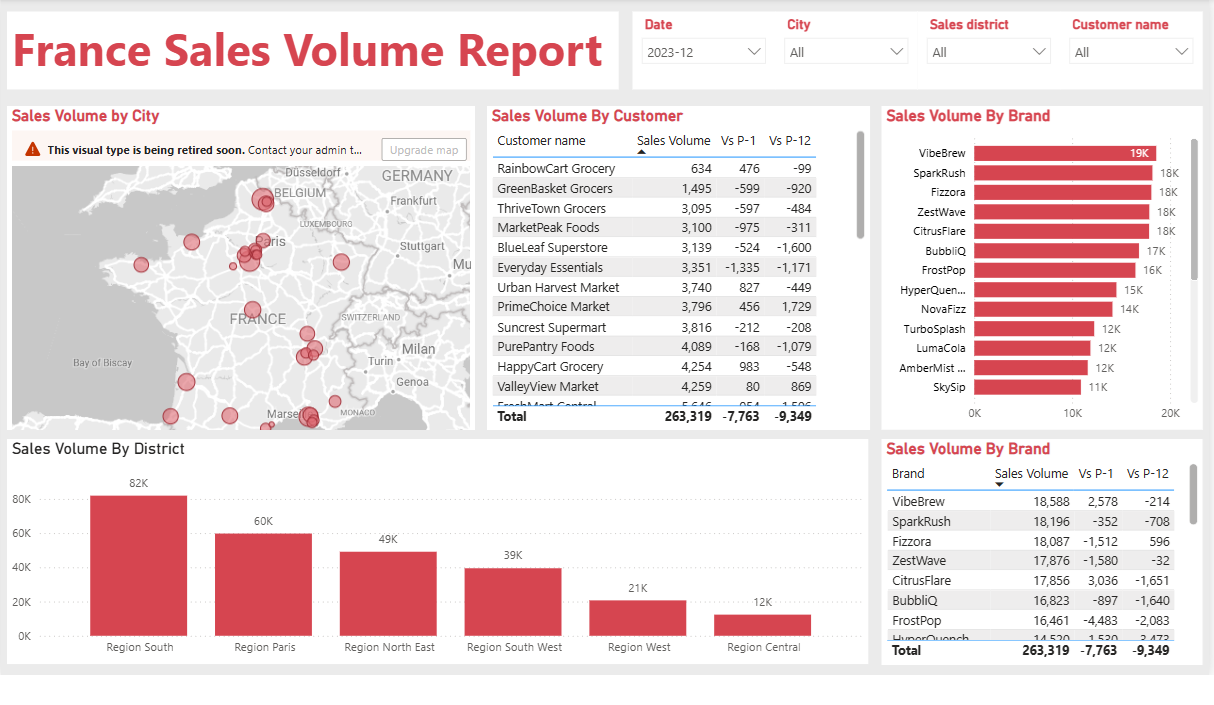

The page's visual inventory and layout, read from the dashboard file:
{"tool":"powerbi","page":{"name":"Page 1","canvas":[1280,720],"ordinal":0},"visuals":[{"type":"group","id":"g1","title":"Group 2","box":[6,14.3,1268.1,82.7],"z":0},{"type":"group","id":"g2","title":"Group 1","box":[6,14.3,649,82.7],"z":0,"group":"g1"},{"type":"textbox","box":[6,14.3,649,82.7],"z":0,"group":"g2"},{"type":"slicer","fields":{"Values":["Raw Data.Date_Cleaned"]},"box":[669.6,14.3,151.1,82.7],"z":1000,"group":"g1"},{"type":"map","title":"Sales Volume by City","fields":{"Category":["Raw Data.City"],"Size":["Sum(Raw Data.Sales Volume)"]},"box":[6.4,114.5,496.3,343.6],"z":1000},{"type":"slicer","fields":{"Values":["Raw Data.City"]},"box":[820.7,14.3,151.1,82.7],"z":2000,"group":"g1"},{"type":"tableEx","title":"Sales Volume By Customer","fields":{"Values":["Raw Data.Customer name","Sum(Raw Data.Sales Volume)","Raw Data.Vs P-1","Raw Data.Vs P-12"]},"box":[515.4,114.5,405.6,343.6],"z":2000},{"type":"slicer","fields":{"Values":["Raw Data.Sales district"]},"box":[971.9,14.3,151.1,82.7],"z":3000,"group":"g1"},{"type":"clusteredBarChart","title":"Sales Volume By Brand","fields":{"Category":["Raw Data.Level 4 - Brand (4)"],"Y":["Sum(Raw Data.Sales Volume)"]},"box":[933.7,114.5,340.4,343.6],"z":3000},{"type":"slicer","fields":{"Values":["Raw Data.Customer name"]},"box":[1123,14.3,151.1,82.7],"z":4000,"group":"g1"},{"type":"clusteredColumnChart","title":"Sales Volume By District","fields":{"Category":["Raw Data.Sales district ID"],"Y":["Sum(Raw Data.Sales Volume)"]},"box":[6.7,468.3,913.3,238.3],"z":4000},{"type":"tableEx","title":"Sales Volume By Brand","fields":{"Values":["Raw Data.Level 4 - Brand (4)","Sum(Raw Data.Sales Volume)","Raw Data.Vs P-1","Raw Data.Vs P-12"]},"box":[933.3,468.3,340,238.3],"z":4001}]}

Visuals, with their boxes on the page's 1280x720 design canvas (x1, y1, x2, y2). These are canvas units, not pixel positions in the 1214x705 screenshot, which may show the page scaled, cropped or inside an application window:
"Group 2" group: (left=6, top=14, right=1274, bottom=97)
"Group 1" group: (left=6, top=14, right=655, bottom=97)
textbox: (left=6, top=14, right=655, bottom=97)
slicer - Raw Data.Date_Cleaned: (left=670, top=14, right=821, bottom=97)
"Sales Volume by City" map: (left=6, top=114, right=503, bottom=458)
slicer - Raw Data.City: (left=821, top=14, right=972, bottom=97)
"Sales Volume By Customer" tableEx: (left=515, top=114, right=921, bottom=458)
slicer - Raw Data.Sales district: (left=972, top=14, right=1123, bottom=97)
"Sales Volume By Brand" clusteredBarChart: (left=934, top=114, right=1274, bottom=458)
slicer - Raw Data.Customer name: (left=1123, top=14, right=1274, bottom=97)
"Sales Volume By District" clusteredColumnChart: (left=7, top=468, right=920, bottom=707)
"Sales Volume By Brand" tableEx: (left=933, top=468, right=1273, bottom=707)
